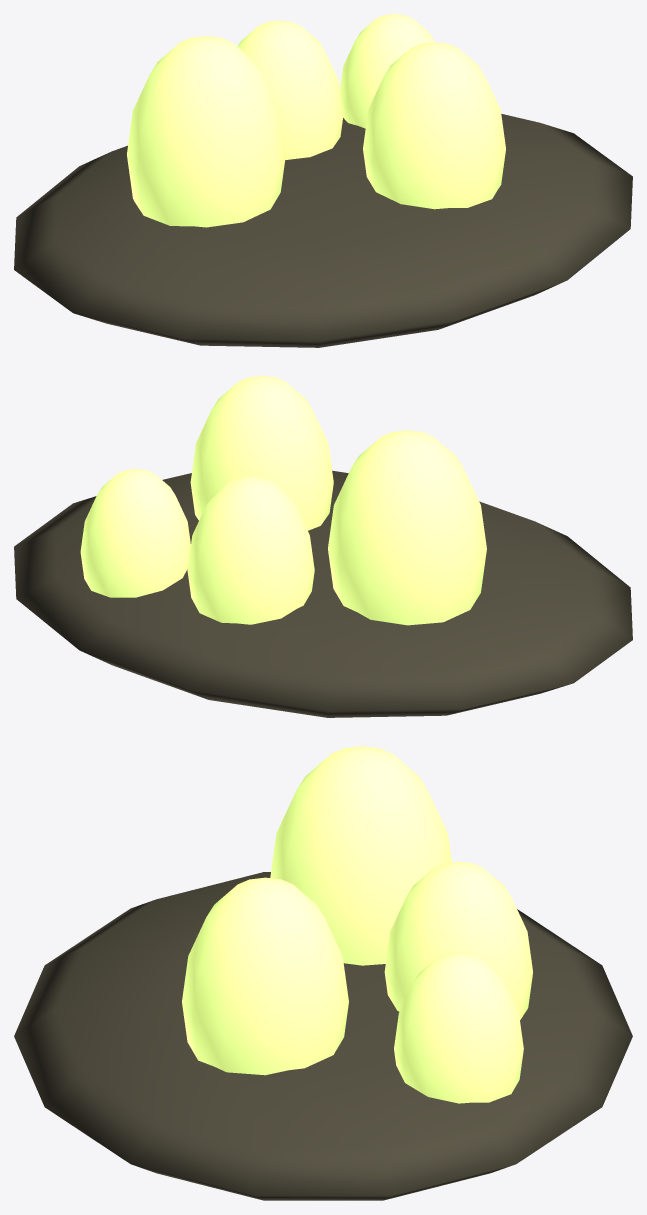
File: egg_cluster.glb
3 views of the same model, one above another, from view 1: azimuth 30°, elevation 25°; view 2: azimuth 150°, elevation 25°; view 3: azimuth 270°, elevation 25° (orthographic). The views are drawn at different scales.
Parts seen in each view (by area): view 1: egg_cluster; view 2: egg_cluster; view 3: egg_cluster.
Part boxes in pixels (bbox=[...]): egg_cluster: bbox=[14, 14, 632, 347]; egg_cluster: bbox=[14, 376, 632, 717]; egg_cluster: bbox=[14, 746, 632, 1200].
Bounding box in the file's own units: 1.95 × 0.8 × 1.6.
